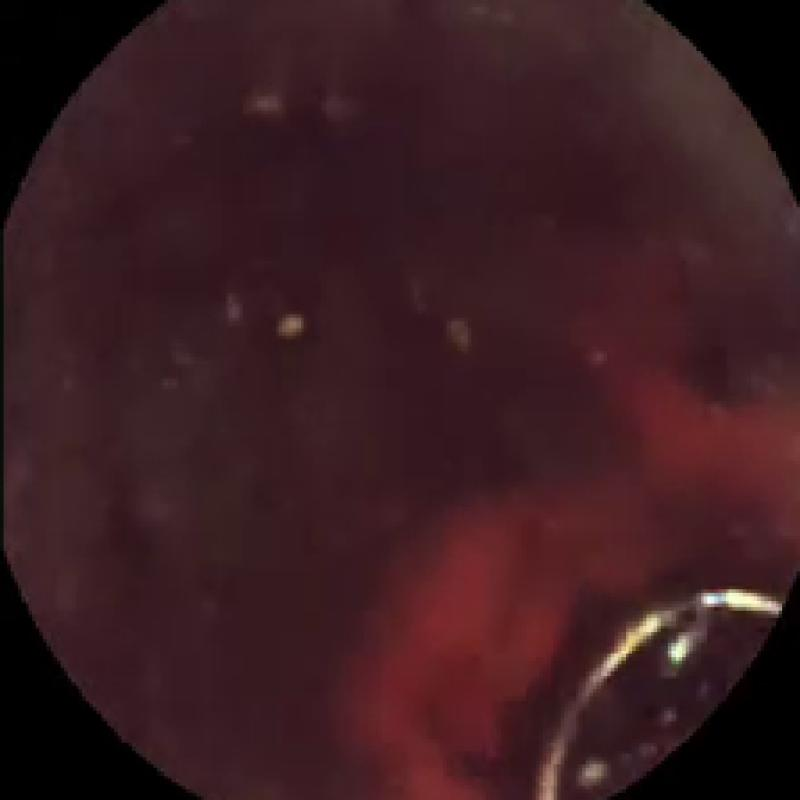bleeding: (343, 350, 800, 800)
